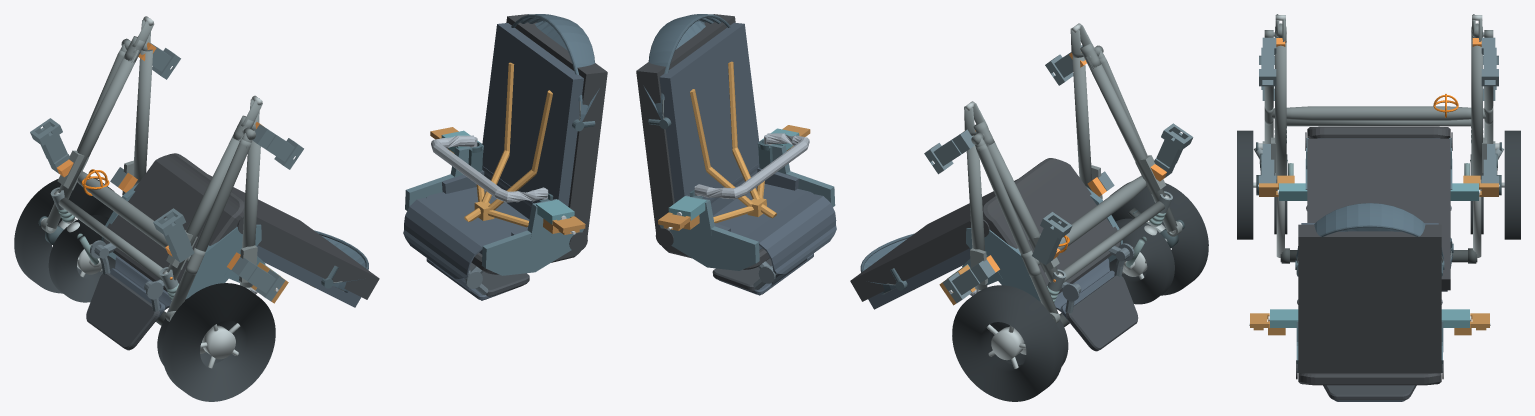
File: D02_w650_state3_wheel_M.glb
The picture shows the model from 3 angles, left to right: view 1: azimuth 30°, elevation 25°; view 2: azimuth 150°, elevation 25°; view 3: azimuth 270°, elevation 25°; orthographic projection. The views are drawn at different scales.
Visible parts, largest first — view 1: D02_Front_Backrest, RL_tire.011, D02_Rear_Shell, D02_Rear_Backrest, D02_Front, D02_Front_Shell, D02_Rear_Legrest, D02_Front_KneeCover, RR_tire.011, FR_tire.011, D02_Rear, V46_rear_leg_-1.011 (+21 smaller); view 2: D02_Front_Backrest, RR_tire.011, D02_Rear_Shell, D02_Rear_Backrest, D02_Front, D02_Front_Shell, D02_Rear_Legrest, D02_Front_KneeCover, RL_tire.011, FL_tire.011, D02_Rear, V46_rear_leg_1.011 (+21 smaller); view 3: D02_Front_Backrest, D02_Rear_Backrest, V46_rearbar.011, D02_Front_Canopy, D02_Rear_Shell, D02_Front_Shell, RL_tire.011, RR_tire.011, main_upper_1.012, main_upper_-1.012, D02_Front_Legrest, D02_Front (+18 smaller).
Part boxes in pixels (left/top/right/bottom): D02_Front_Backrest: left=482, top=14, right=607, bottom=236; RL_tire.011: left=162, top=283, right=275, bottom=401; D02_Rear_Shell: left=103, top=153, right=244, bottom=292; D02_Rear_Backrest: left=208, top=174, right=379, bottom=307; D02_Front: left=405, top=130, right=583, bottom=275; D02_Front_Shell: left=426, top=142, right=587, bottom=274; D02_Rear_Legrest: left=86, top=257, right=164, bottom=350; D02_Front_KneeCover: left=403, top=197, right=488, bottom=300; RR_tire.011: left=14, top=178, right=114, bottom=293; FR_tire.011: left=48, top=215, right=115, bottom=302; D02_Rear: left=101, top=183, right=280, bottom=299; V46_rear_leg_-1.011: left=168, top=139, right=251, bottom=311; D02_Front_Backrest: left=636, top=14, right=759, bottom=232; RR_tire.011: left=952, top=285, right=1063, bottom=401; D02_Rear_Shell: left=982, top=158, right=1120, bottom=293; D02_Rear_Backrest: left=850, top=179, right=1017, bottom=309; D02_Front: left=659, top=128, right=835, bottom=270; D02_Front_Shell: left=655, top=139, right=814, bottom=269; D02_Rear_Legrest: left=1060, top=260, right=1138, bottom=351; D02_Front_KneeCover: left=753, top=194, right=836, bottom=295; RL_tire.011: left=1110, top=182, right=1208, bottom=295; FL_tire.011: left=1109, top=218, right=1174, bottom=304; D02_Rear: left=947, top=186, right=1122, bottom=301; V46_rear_leg_1.011: left=976, top=144, right=1057, bottom=313; D02_Front_Backrest: left=1298, top=223, right=1441, bottom=373; D02_Rear_Backrest: left=1307, top=138, right=1450, bottom=291; V46_rearbar.011: left=1271, top=106, right=1486, bottom=120; D02_Front_Canopy: left=1295, top=203, right=1443, bottom=261; D02_Rear_Shell: left=1305, top=126, right=1452, bottom=150; D02_Front_Shell: left=1296, top=360, right=1443, bottom=385; RL_tire.011: left=1237, top=130, right=1253, bottom=239; RR_tire.011: left=1504, top=130, right=1520, bottom=239; main_upper_1.012: left=1471, top=42, right=1482, bottom=179; main_upper_-1.012: left=1275, top=42, right=1286, bottom=179; D02_Front_Legrest: left=1323, top=385, right=1416, bottom=401; D02_Front: left=1268, top=309, right=1471, bottom=372.
Size of the model in its own units: 1.38 by 0.7726 by 0.781.
